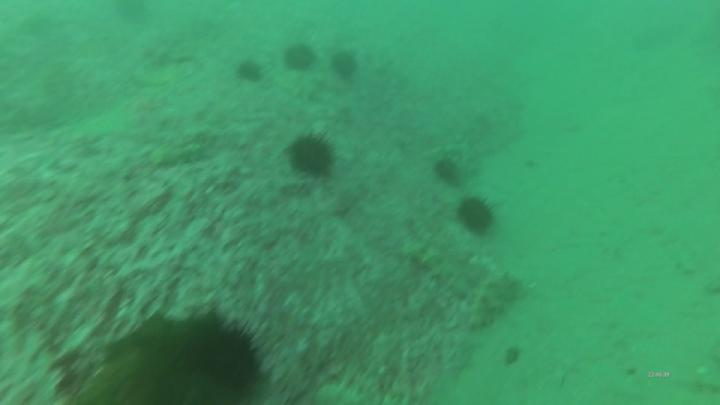echinus: (184, 314, 265, 398), (288, 132, 338, 180), (456, 194, 498, 239), (282, 42, 318, 73), (331, 52, 365, 82), (431, 156, 461, 185), (235, 58, 263, 85)
holothurian: (400, 232, 481, 304), (461, 266, 525, 334), (147, 138, 207, 172)
